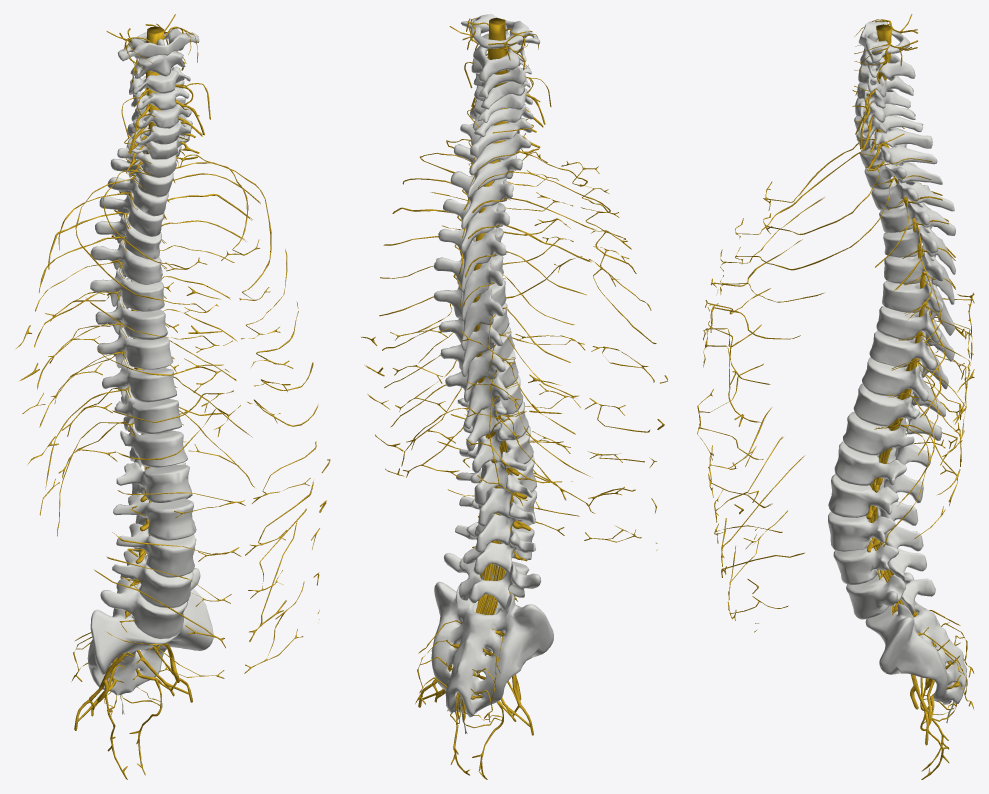
The model's file is cord-in-spine.glb.
The picture shows the model from 3 angles, left to right: view 1: azimuth 30°, elevation 25°; view 2: azimuth 150°, elevation 25°; view 3: azimuth 270°, elevation 25°; orthographic projection. The views are drawn at different scales.
Parts seen in each view (by area): view 1: Sacrum, L5_vertebra, L2_vertebra, L3_vertebra, L4_vertebra, L1_vertebra, T10_vertebra, T12_vertebra, T11_vertebra, T9_vertebra, T7_vertebra, T8_vertebra (+21 smaller); view 2: Sacrum, L5_vertebra, L4_vertebra, L1_vertebra, T7_vertebra, L3_vertebra, T10_vertebra, L2_vertebra, T9_vertebra, T6_vertebra, T8_vertebra, T5_vertebra (+20 smaller); view 3: Sacrum, L3_vertebra, L1_vertebra, L2_vertebra, L5_vertebra, L4_vertebra, T12_vertebra, T11_vertebra, T10_vertebra, T9_vertebra, T7_vertebra, T8_vertebra (+20 smaller).
Part boxes in pixels (x1=…): Sacrum: x1=87, y1=589, x2=213, y2=695; L5_vertebra: x1=100, y1=568, x2=200, y2=639; L2_vertebra: x1=113, y1=492, x2=196, y2=540; L3_vertebra: x1=116, y1=520, x2=196, y2=577; L4_vertebra: x1=112, y1=547, x2=194, y2=608; L1_vertebra: x1=116, y1=462, x2=192, y2=502; T10_vertebra: x1=102, y1=357, x2=176, y2=403; T12_vertebra: x1=120, y1=423, x2=187, y2=467; T11_vertebra: x1=114, y1=389, x2=181, y2=433; T9_vertebra: x1=97, y1=327, x2=173, y2=369; T7_vertebra: x1=90, y1=267, x2=164, y2=311; T8_vertebra: x1=95, y1=295, x2=167, y2=339; Sacrum: x1=431, y1=581, x2=553, y2=717; L5_vertebra: x1=443, y1=553, x2=541, y2=609; L4_vertebra: x1=455, y1=522, x2=535, y2=574; L1_vertebra: x1=459, y1=426, x2=533, y2=505; T7_vertebra: x1=434, y1=279, x2=506, y2=351; L3_vertebra: x1=459, y1=490, x2=537, y2=552; T10_vertebra: x1=445, y1=350, x2=518, y2=428; L2_vertebra: x1=456, y1=455, x2=536, y2=526; T9_vertebra: x1=440, y1=326, x2=514, y2=402; T6_vertebra: x1=434, y1=255, x2=503, y2=320; T8_vertebra: x1=439, y1=302, x2=509, y2=377; T5_vertebra: x1=438, y1=227, x2=506, y2=292; Sacrum: x1=865, y1=572, x2=967, y2=704; L3_vertebra: x1=828, y1=508, x2=923, y2=551; L1_vertebra: x1=834, y1=441, x2=923, y2=503; L2_vertebra: x1=828, y1=474, x2=918, y2=525; L5_vertebra: x1=846, y1=570, x2=935, y2=619; L4_vertebra: x1=833, y1=537, x2=926, y2=584; T12_vertebra: x1=843, y1=412, x2=930, y2=466; T11_vertebra: x1=853, y1=383, x2=941, y2=440; T10_vertebra: x1=862, y1=357, x2=945, y2=416; T9_vertebra: x1=869, y1=331, x2=948, y2=389; T7_vertebra: x1=882, y1=272, x2=954, y2=335; T8_vertebra: x1=876, y1=303, x2=954, y2=361.
Bounding box in the file's own units: 0.2128 × 0.7365 × 0.2479.
63 materials, 62 textured.
